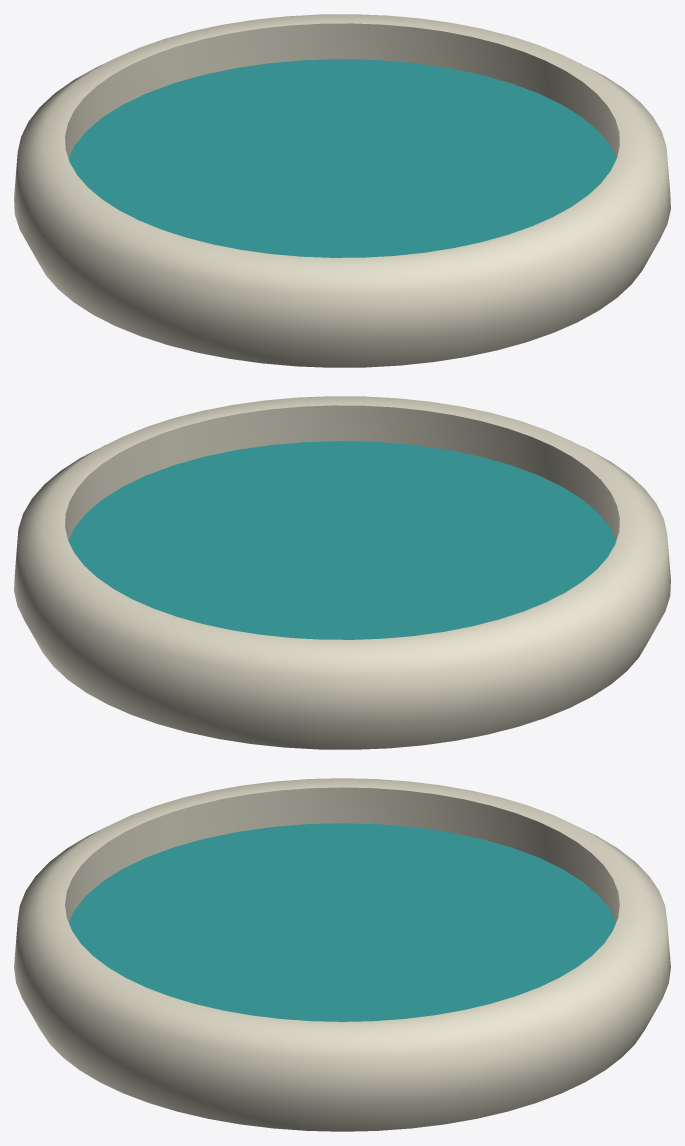
The model's file is water-clock-garden-and-hydraulic-puzzles-bowl-immersio-54324374__31934.glb.
The picture shows the model from 3 angles, top to bottom: view 1: azimuth 30°, elevation 25°; view 2: azimuth 150°, elevation 25°; view 3: azimuth 270°, elevation 25°; orthographic projection.
Visible parts, largest first — view 1: bowl-immersion-basin; view 2: bowl-immersion-basin; view 3: bowl-immersion-basin.
Boxes of the visible parts, x1,y1,x2,y2 form: bowl-immersion-basin: (14, 14, 670, 367); bowl-immersion-basin: (14, 396, 670, 749); bowl-immersion-basin: (14, 778, 670, 1131).
Bounding box in the file's own units: 1.8 × 0.29 × 1.8.
